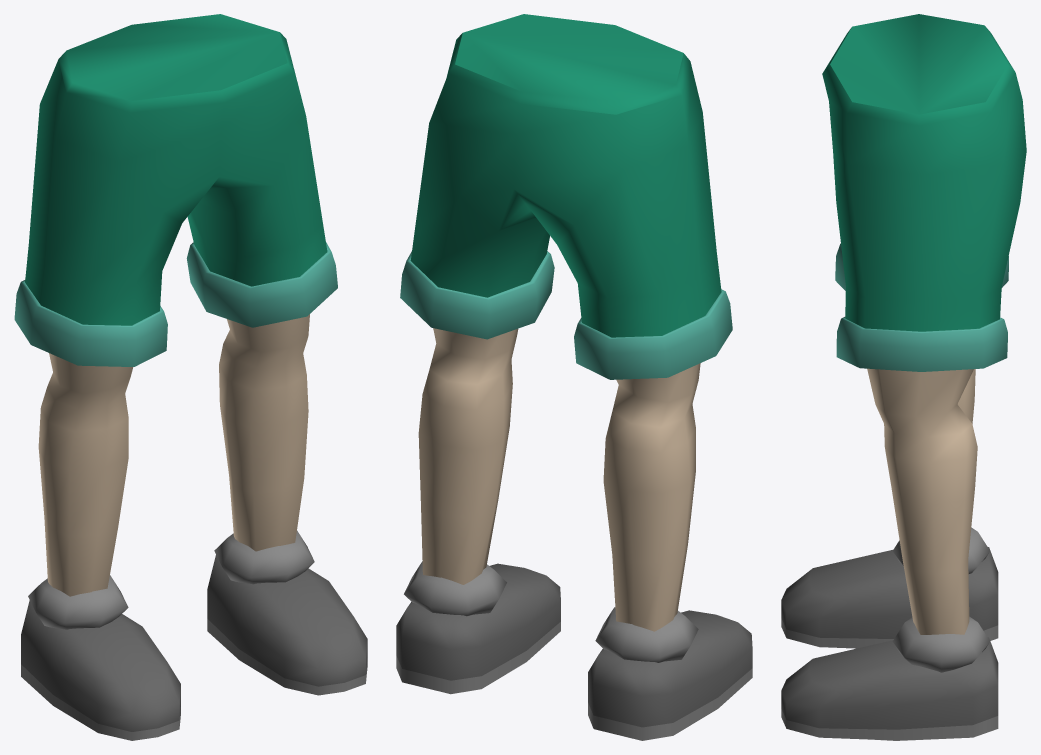
Rendered from Leg it go.fbx.
3 renders of one model, left to right at view 1: azimuth 30°, elevation 25°; view 2: azimuth 150°, elevation 25°; view 3: azimuth 270°, elevation 25°, orthographic. The views are drawn at different scales.
Parts seen in each view (by area): view 1: pCube21.001; view 2: pCube21.001; view 3: pCube21.001.
Boxes of the visible parts, x1=… form: pCube21.001: x1=14, y1=14, x2=367, y2=740; pCube21.001: x1=396, y1=14, x2=752, y2=740; pCube21.001: x1=781, y1=14, x2=1026, y2=740.
Bounding box in the file's own units: 1.59 × 3.19 × 1.16.
